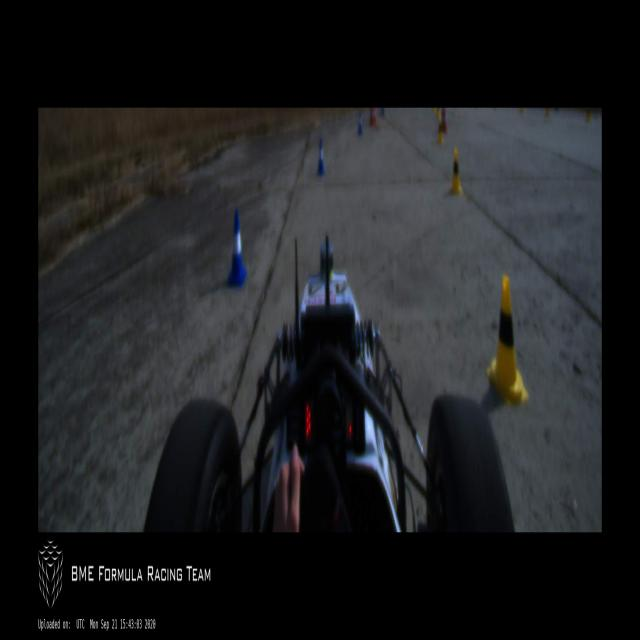blue_cone: (227, 209, 247, 286), (316, 139, 325, 175), (358, 111, 362, 134)
orange_cone: (440, 108, 447, 132), (370, 108, 376, 123)
yellow_cone: (486, 276, 528, 404), (449, 148, 462, 193), (437, 116, 443, 144)
